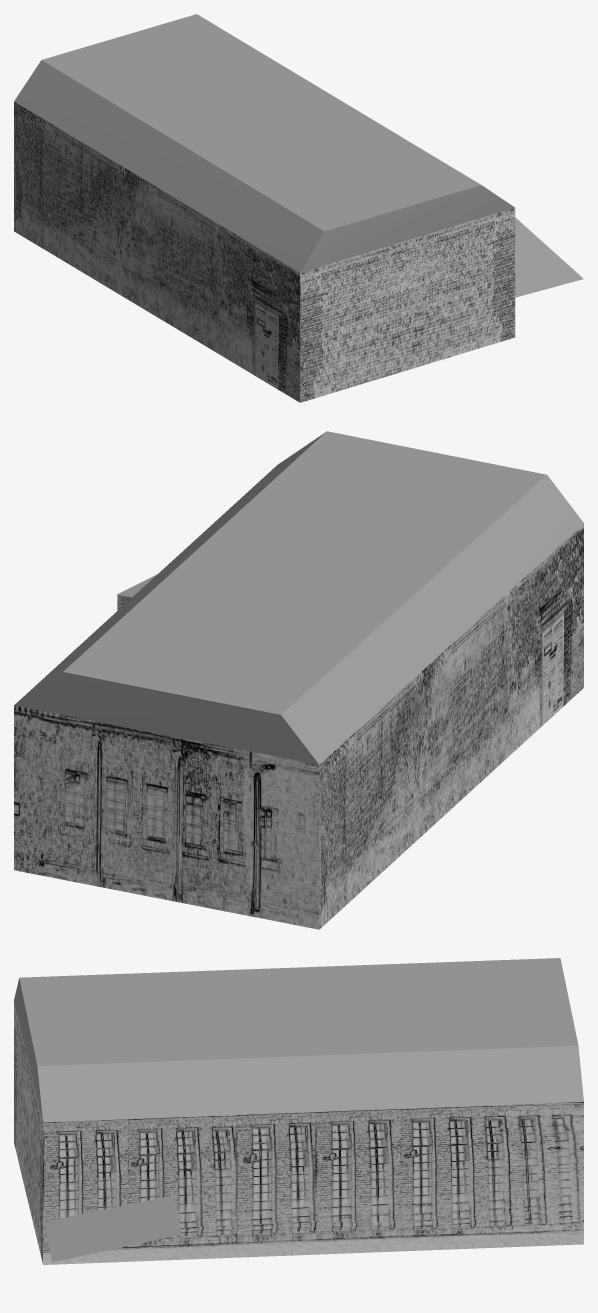
The model's file is Walter-Frenzel-Bau.gltf.
The picture shows the model from 3 angles, top to bottom: view 1: azimuth 30°, elevation 25°; view 2: azimuth 150°, elevation 25°; view 3: azimuth 270°, elevation 25°; orthographic projection. The views are drawn at different scales.
Parts seen in each view (by area): view 1: Dach.1; view 2: Dach.1; view 3: Dach.1.
Part boxes in pixels (x1,y1,x2,y2): Dach.1: (14,14,583,402); Dach.1: (14,431,583,929); Dach.1: (14,958,583,1264).
Size of the model in its own units: 30.12 by 13.85 by 39.83.
6 materials, 5 textured.
